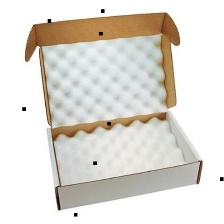foam_box: (36, 30, 173, 130), (46, 114, 193, 190)
